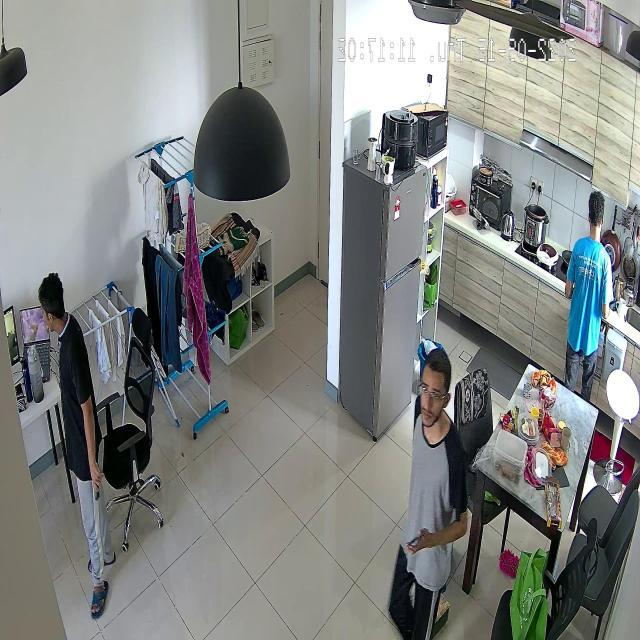Knife: (89, 437, 110, 506)
